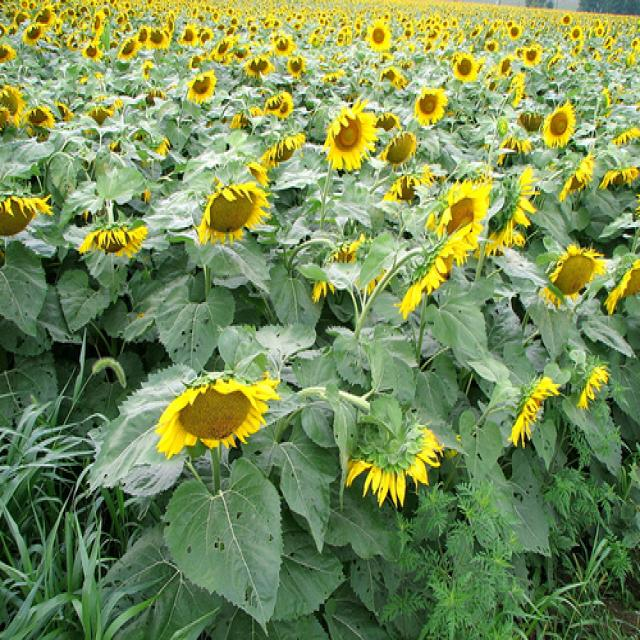sunflower: (155, 364, 284, 456), (341, 407, 441, 509), (430, 172, 488, 258), (484, 162, 536, 254), (505, 372, 560, 452), (199, 181, 271, 242), (323, 98, 378, 172), (79, 214, 153, 269), (547, 240, 604, 310), (0, 176, 52, 245), (596, 255, 640, 318), (556, 154, 595, 206), (540, 98, 576, 151), (578, 364, 612, 416), (378, 126, 418, 168), (260, 133, 306, 167), (182, 65, 217, 107), (414, 89, 446, 129), (262, 91, 296, 122), (240, 49, 272, 81), (23, 103, 54, 136), (452, 46, 477, 85), (365, 18, 395, 47), (146, 25, 173, 57), (211, 31, 234, 63), (116, 34, 140, 63), (379, 70, 406, 94), (22, 20, 44, 48), (286, 51, 307, 79), (270, 32, 294, 54), (422, 27, 437, 60), (196, 24, 214, 51), (522, 43, 538, 71), (506, 23, 522, 45), (181, 20, 195, 44), (0, 43, 12, 68), (84, 42, 99, 62), (471, 20, 484, 40), (571, 24, 581, 44)
